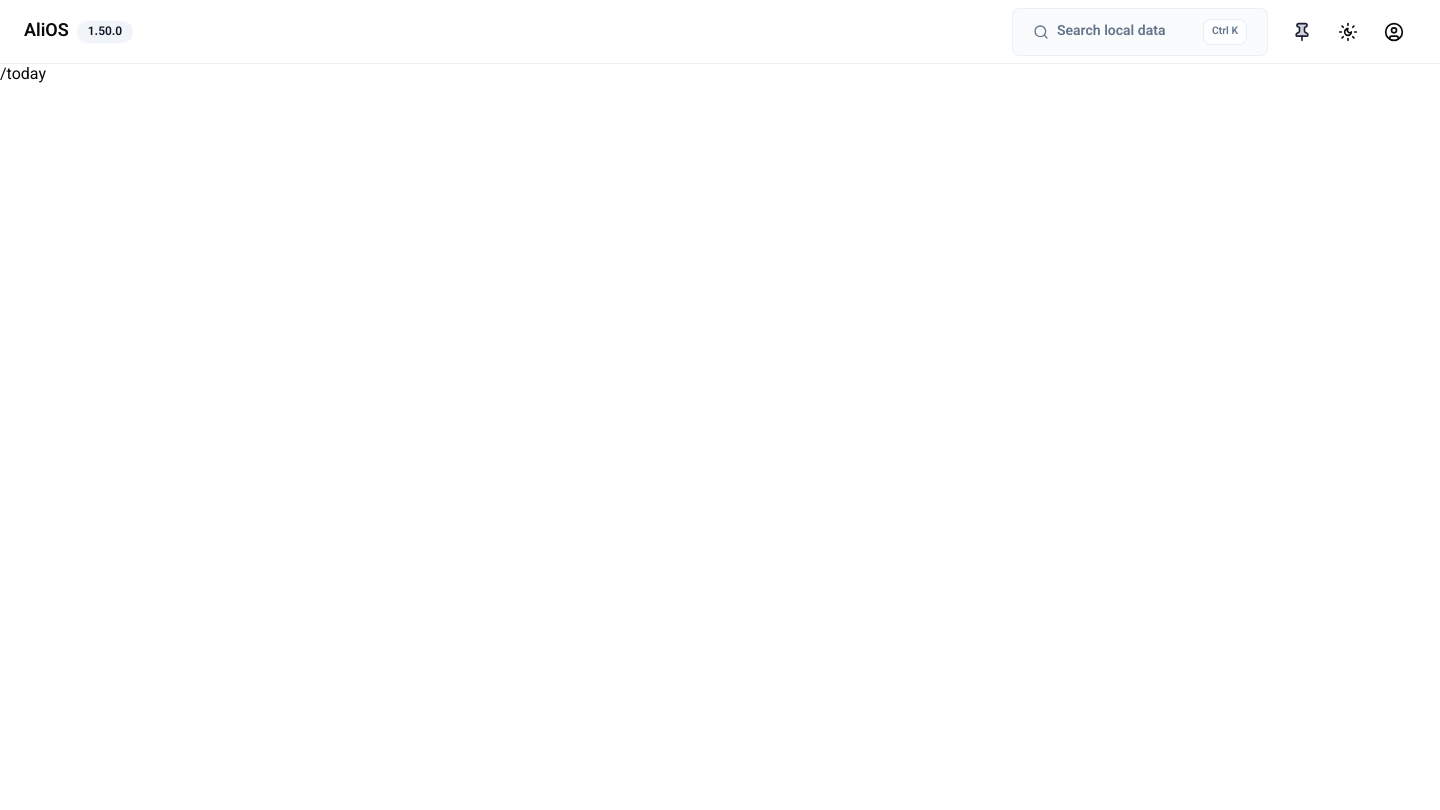
Test: global Quick Access › keeps obsolete targets non-navigable and reports failed persistence without removing them
Click the button named "Open Quick Access": (1302,32) [1280, 10, 1324, 54]
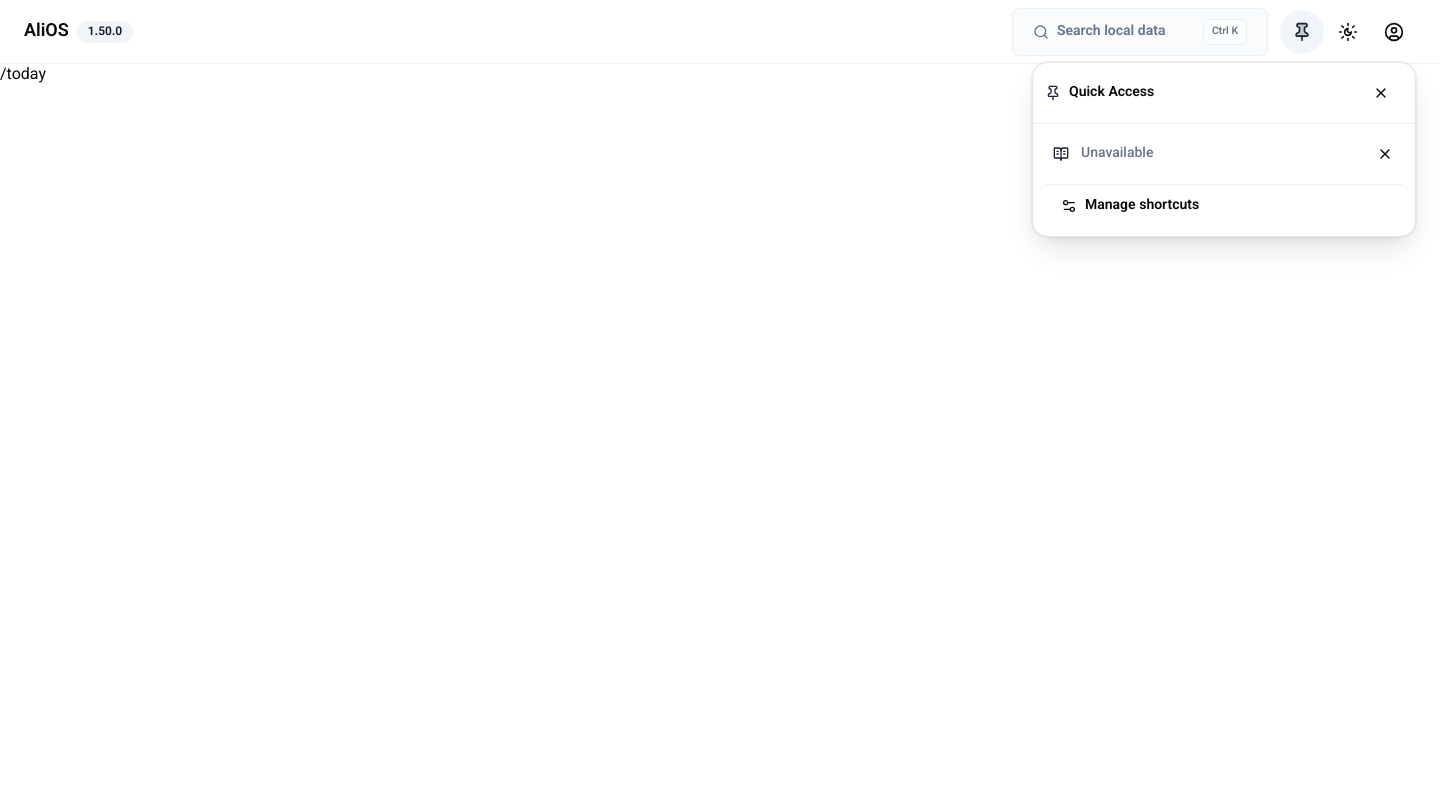
Now the element showing "Unavailable" is shown, box [1053, 142, 1153, 164]
Click the button named "Remove Unavailable from Quick Access": (1385,154) [1363, 132, 1407, 176]
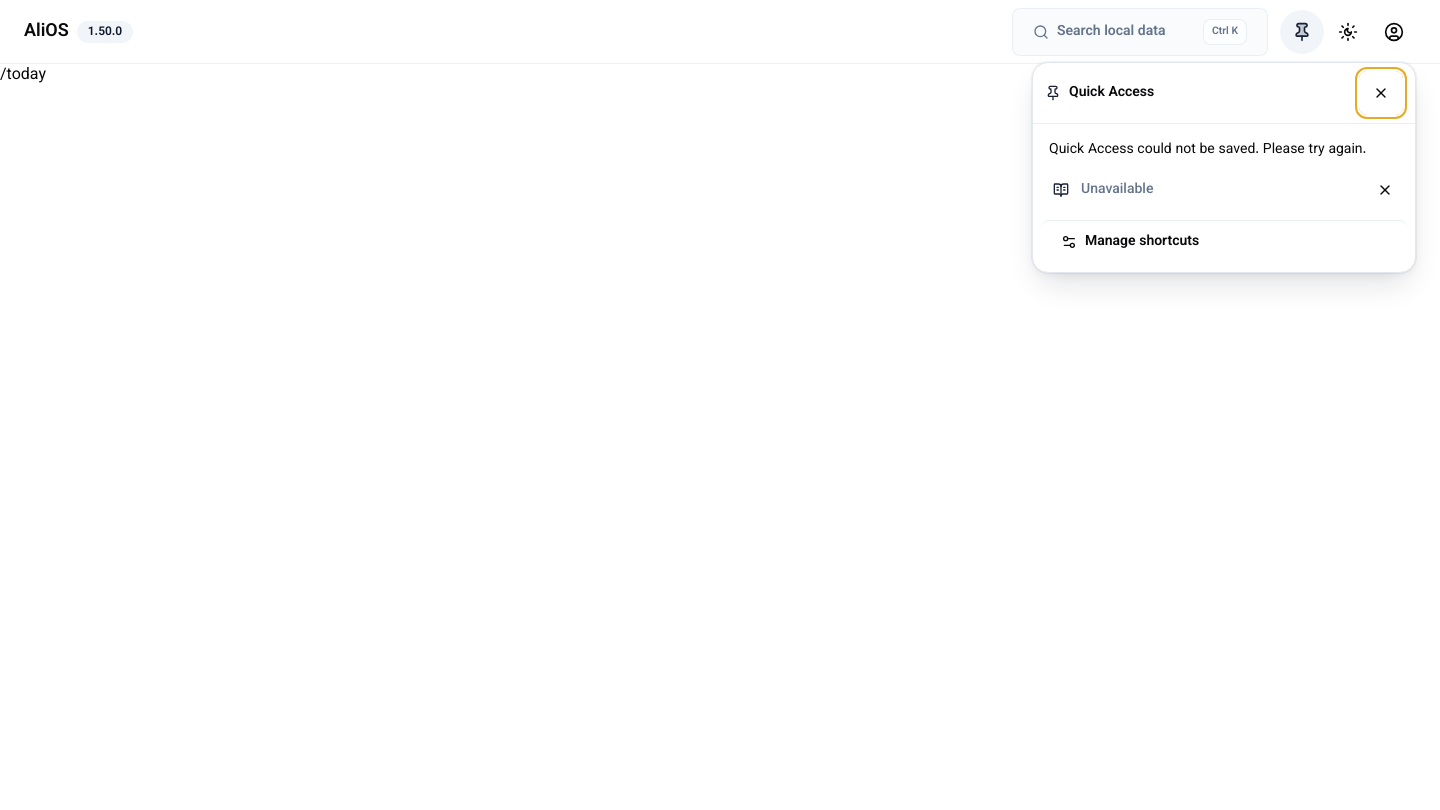
Now the message "Quick Access could not be saved. Please try again." is shown, box [1041, 132, 1407, 168]
Click the button named "Remove Unavailable from Quick Access": (1385,190) [1363, 168, 1407, 212]
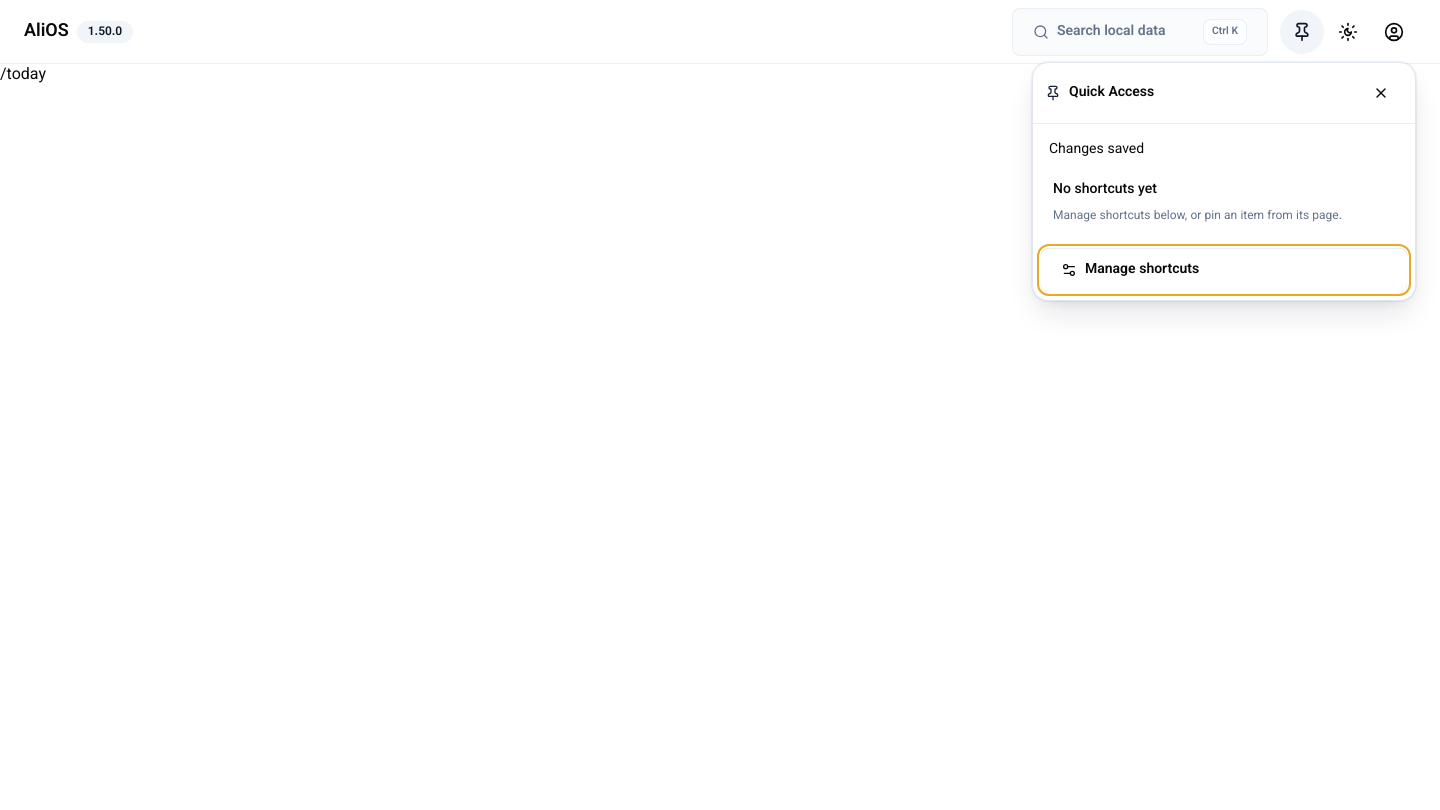
Now the dialog with id "topbar-quick-access" shows "No shortcuts yet", box [1053, 178, 1157, 200]
